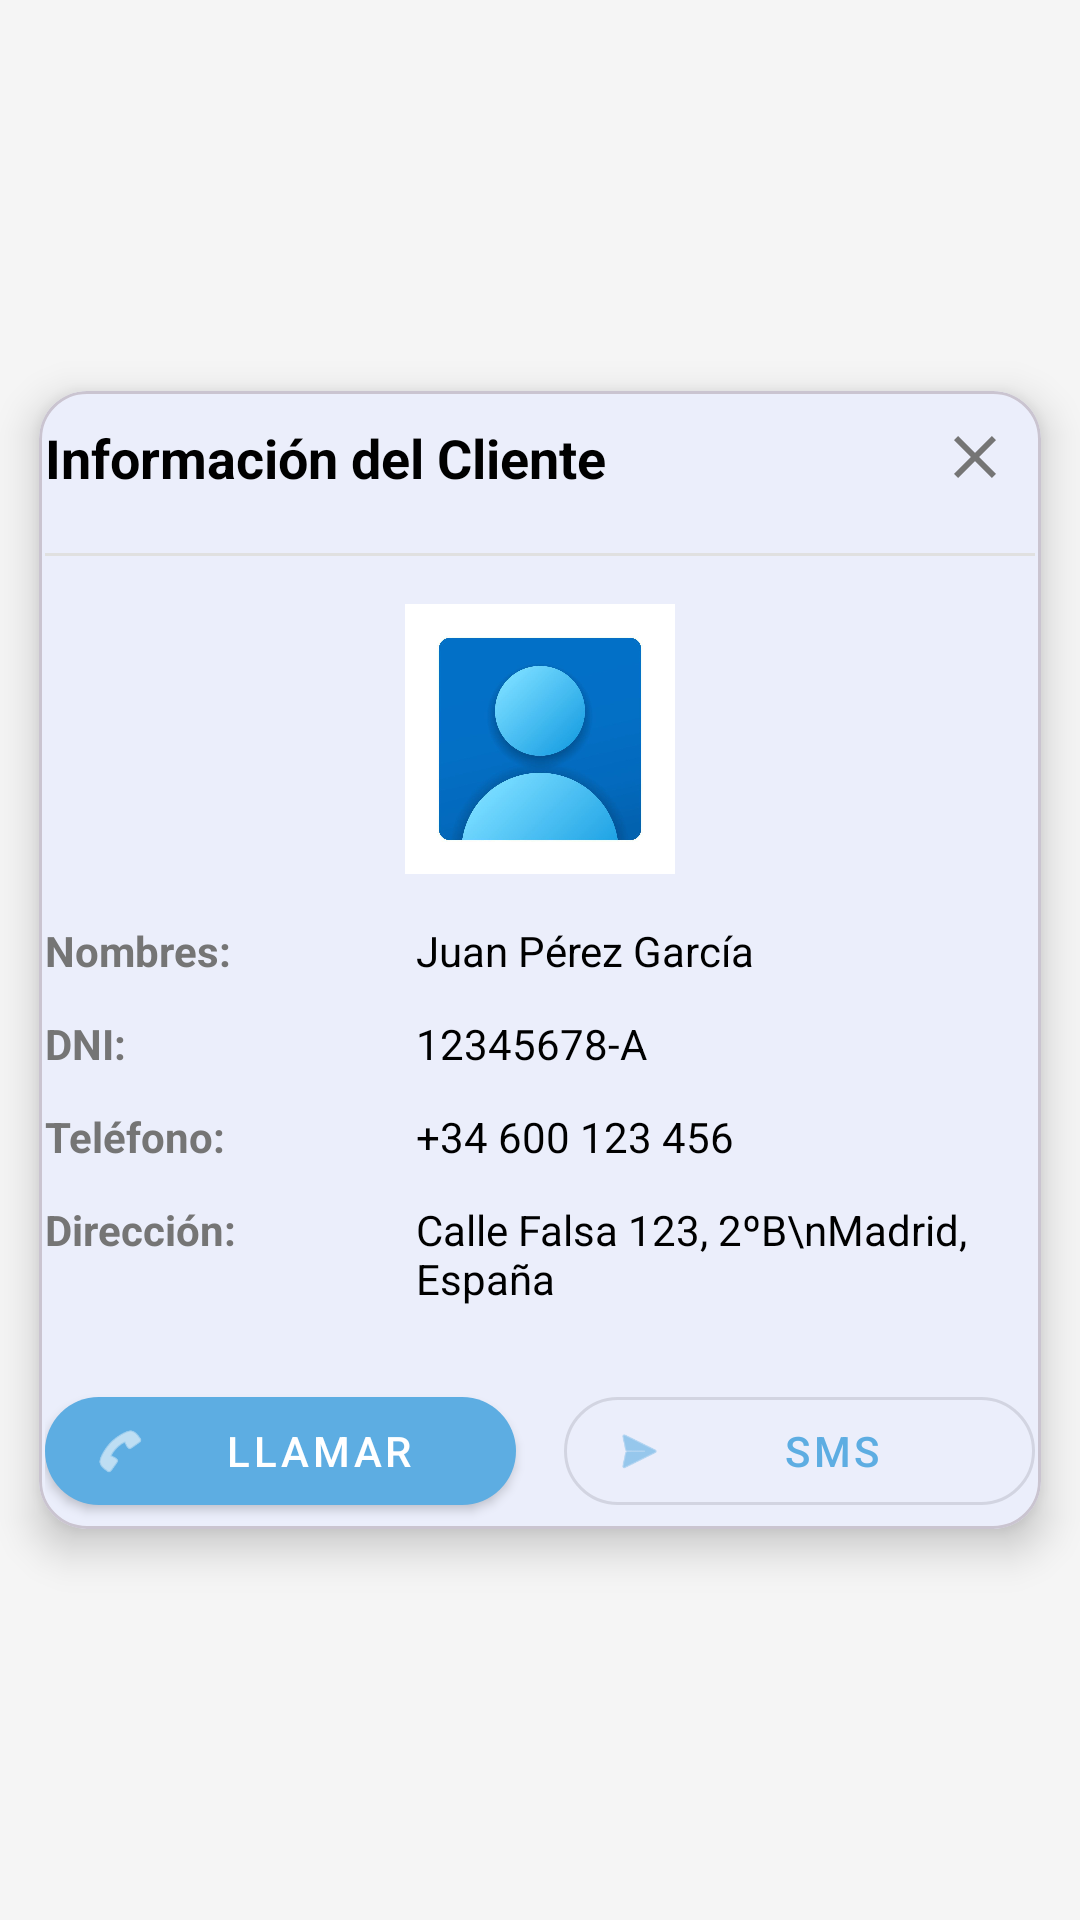

Screen size 1080px x 1920px. Icon name, then its box in pixels as [x1, y1, x2, y2]:
close: [954, 436, 996, 478]
fotoperfil: [439, 638, 641, 840]
